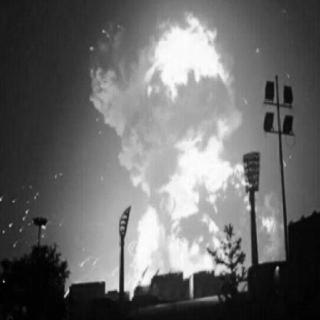Fire: (129, 6, 245, 300), (258, 190, 278, 246)
